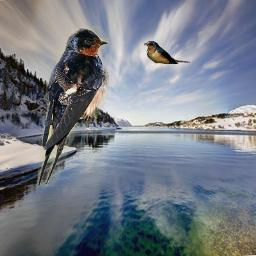Swallow: (34, 26, 109, 187), (55, 67, 92, 105), (144, 41, 191, 64)
